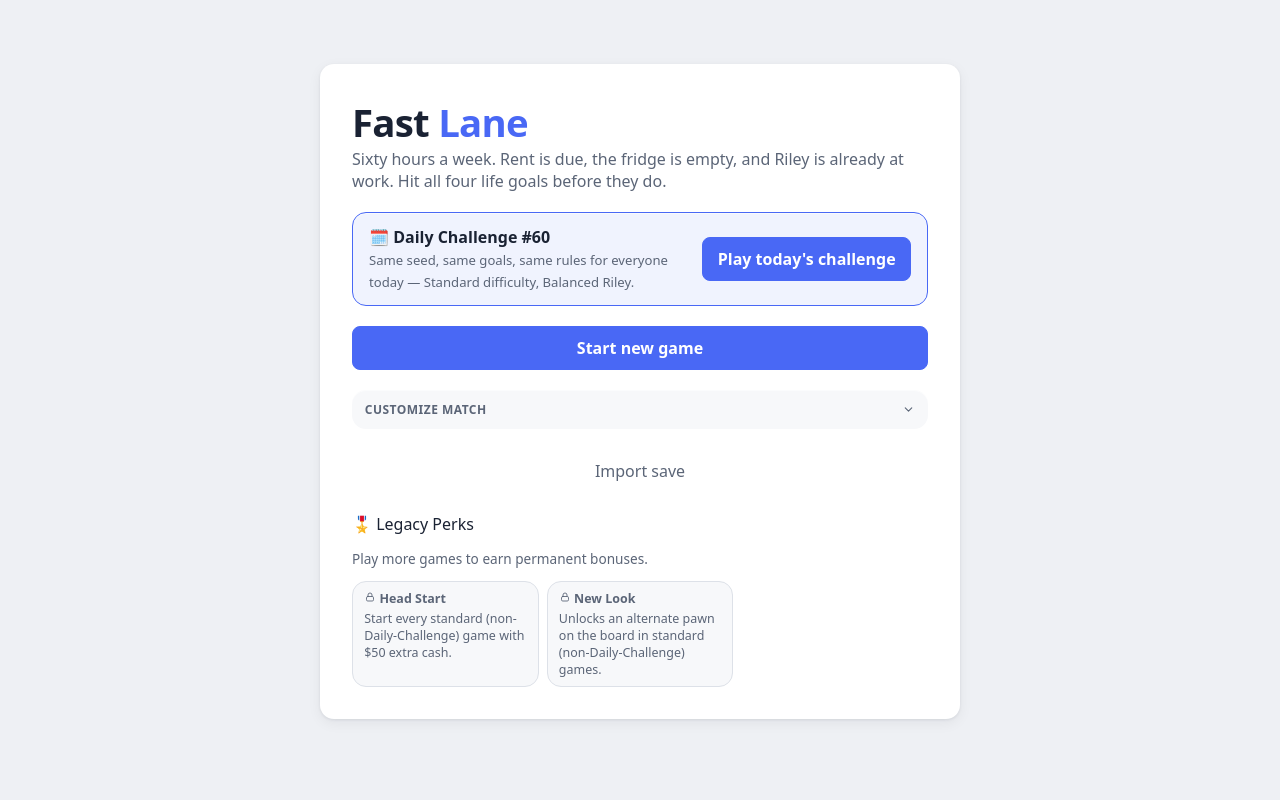
Test: Daily Challenge deep link (?daily=1) › confirms before abandoning an existing, different save
Click the button "Start new game" at coordinates (640, 348), box [352,326,928,370]
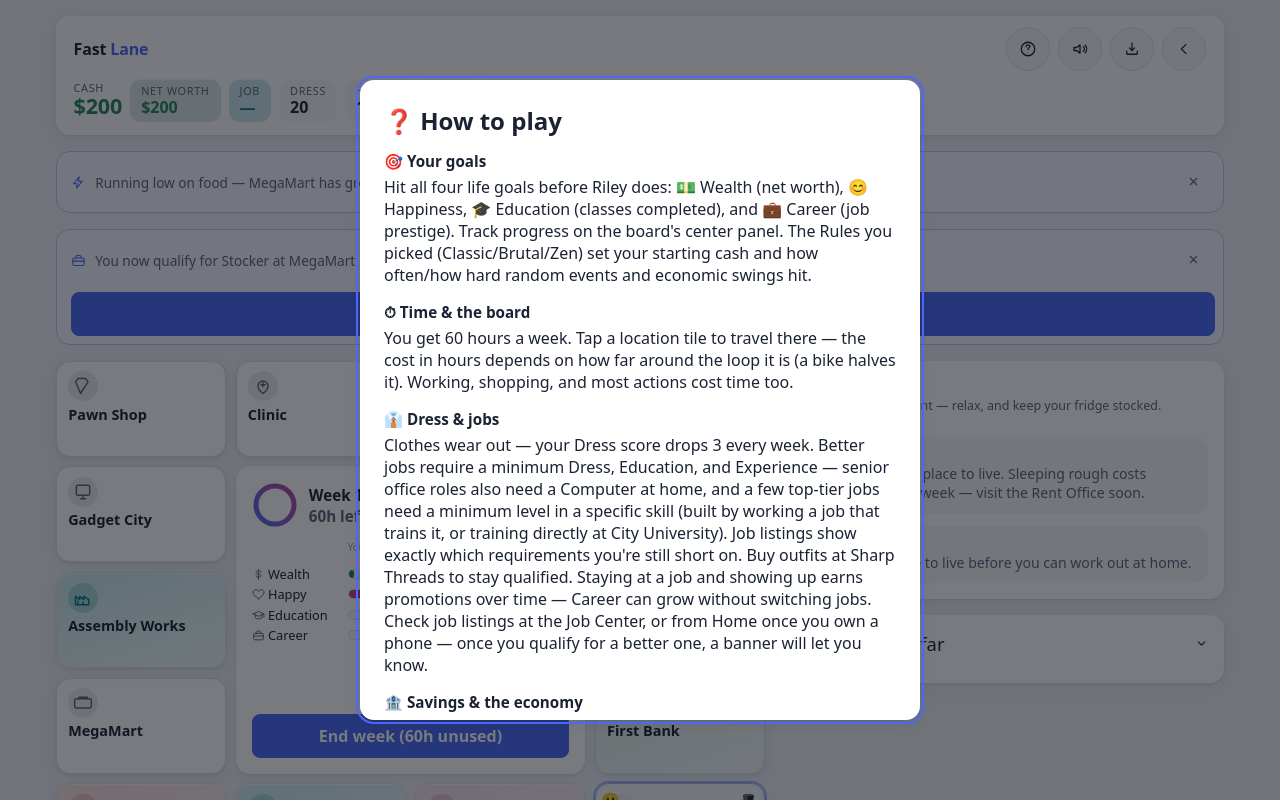
expect the heading "Week 1" is shown: met, box [309,485,366,505]
